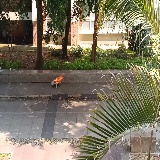fire: (53, 73, 63, 83)
